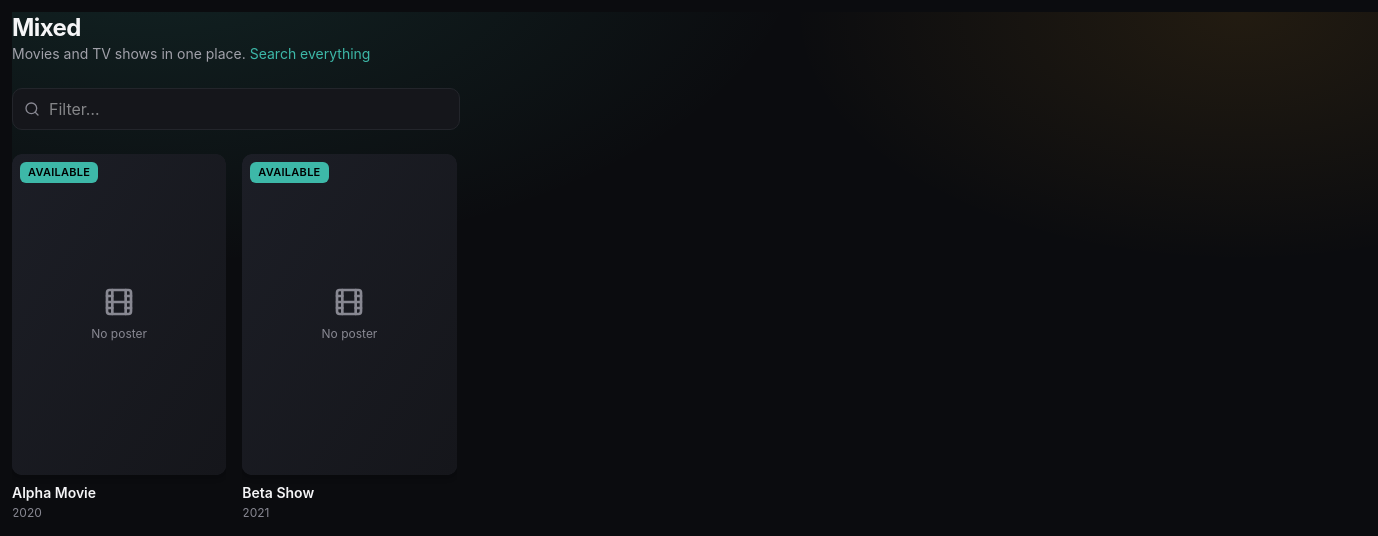
Test: Mixed page › filters movies and TV in one grid
Expected: the element with test id "mixed-page" is shown, [11,13,460,520]
Expected: the heading "Alpha Movie" is shown, [12,484,96,502]
Type "beta" into the field with placeholder "Filter…". click: (236, 109)
box: [12,88,460,130]
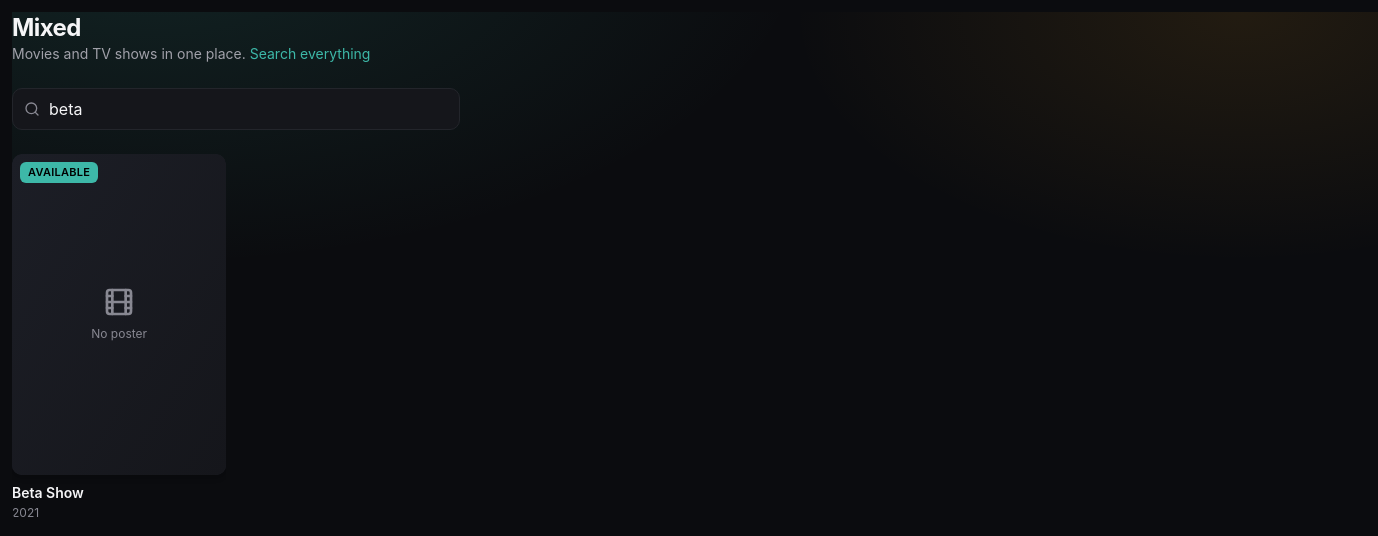
Expected: the heading "Beta Show" is shown, [12,484,84,502]
Expected: the link "Alpha Movie" is gone
